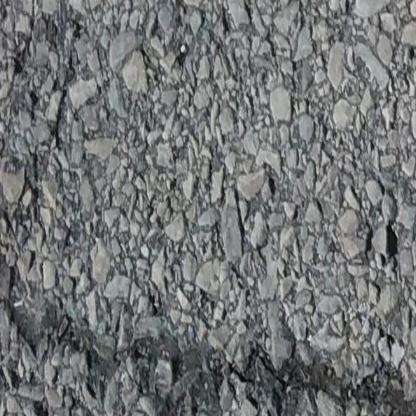Cracks: (0, 284, 416, 416)
